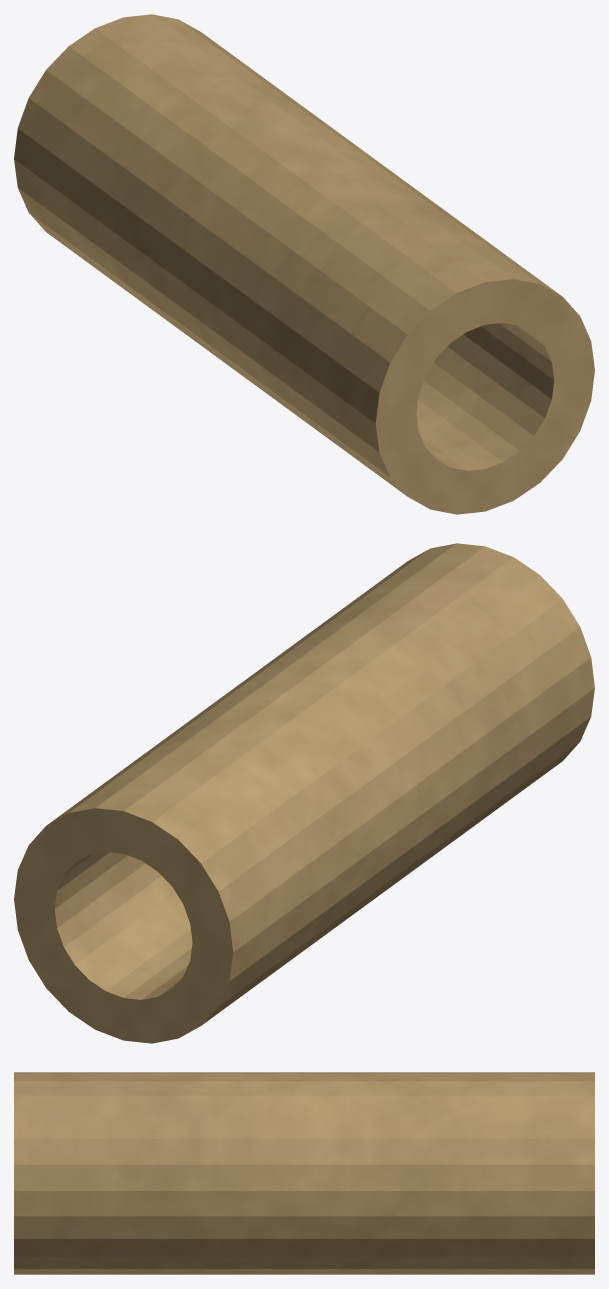
3 renders of one model, top to bottom at view 1: azimuth 30°, elevation 25°; view 2: azimuth 150°, elevation 25°; view 3: azimuth 270°, elevation 25°, orthographic. The views are drawn at different scales.
Visible parts, largest first — view 1: tip; view 2: tip; view 3: tip.
Boxes of the visible parts, x1,y1,x2,y2 form: tip: (14, 14, 594, 514); tip: (14, 543, 594, 1043); tip: (14, 1072, 594, 1274).
Size of the model in its own units: 0.007 by 0.007 by 0.02.
1 material, 1 textured.
